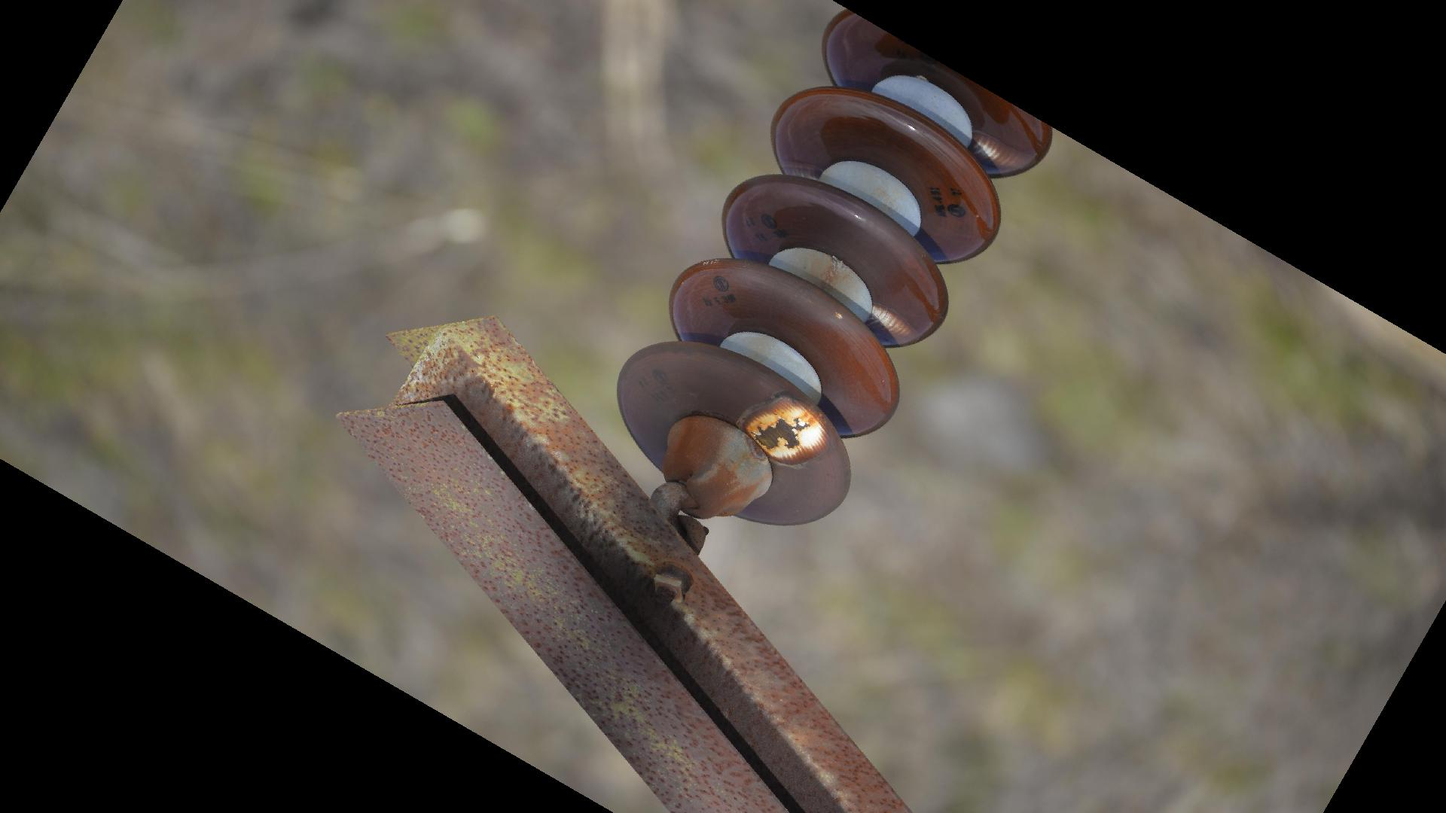insulator: (613, 9, 1062, 532)
insulator_flashover: (737, 387, 834, 467), (969, 129, 1028, 171), (865, 300, 914, 341)
